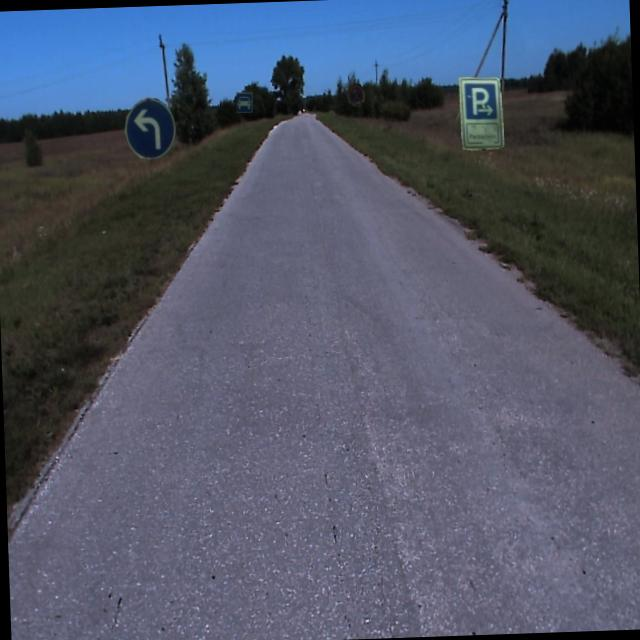road: (7, 113, 640, 640)
